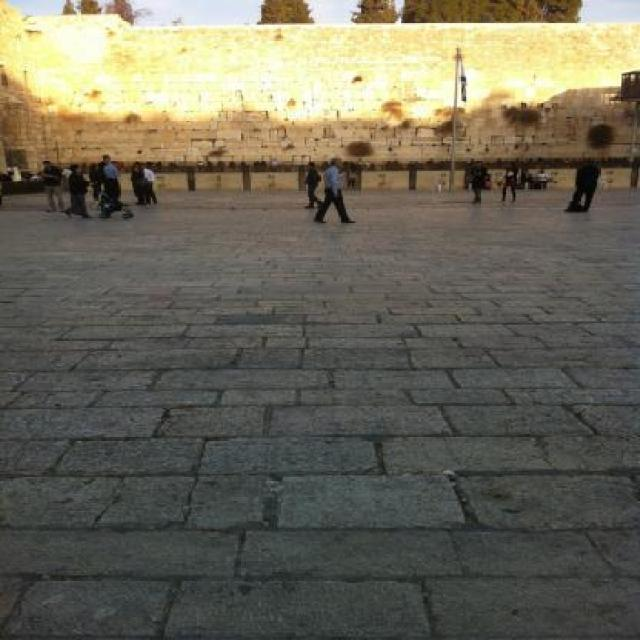Person: (312, 148, 360, 225), (96, 162, 130, 216), (564, 166, 602, 211), (61, 166, 90, 223), (37, 160, 65, 211), (304, 160, 328, 211), (126, 162, 149, 204), (502, 168, 522, 202), (6, 164, 26, 193), (145, 161, 157, 205), (472, 165, 485, 202), (522, 165, 538, 190), (538, 168, 552, 190)
